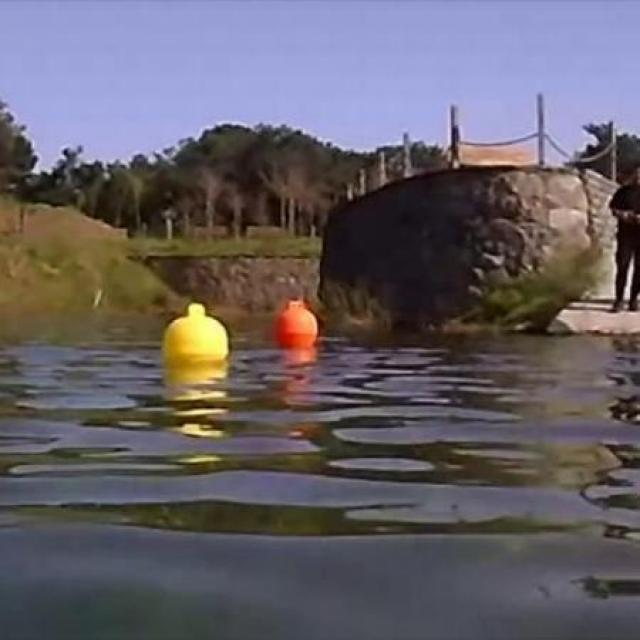buoy: (163, 301, 231, 365), (277, 299, 316, 345)
